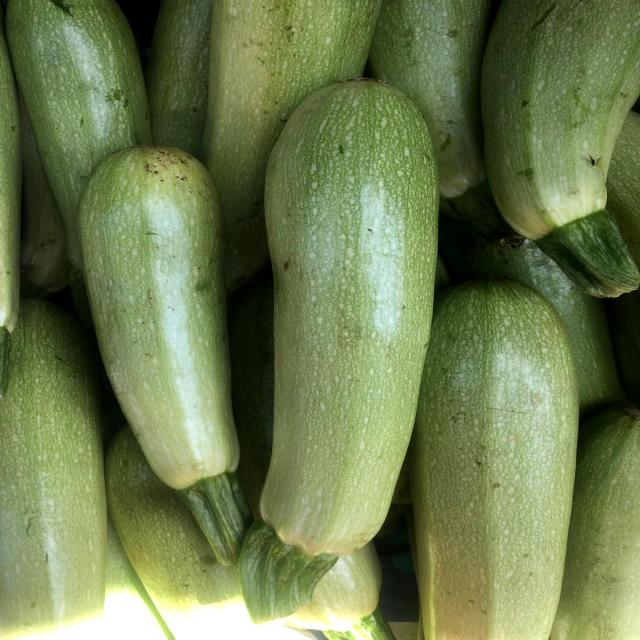zucchini: (213, 53, 472, 630), (67, 124, 265, 569)
